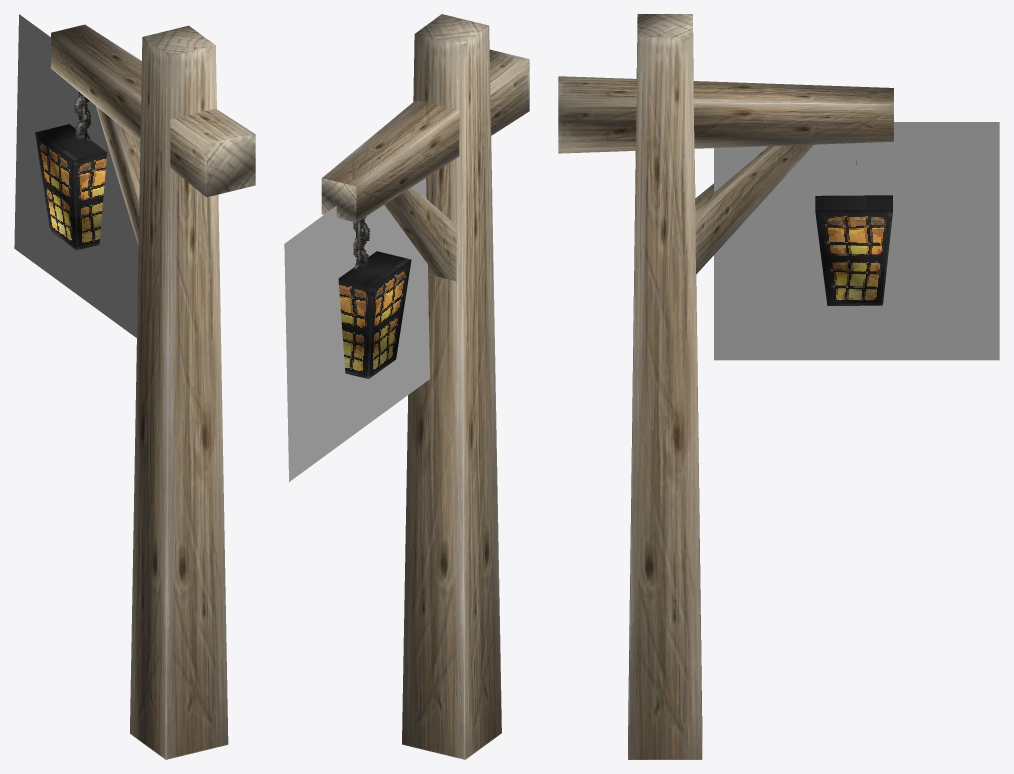
Rendered from duskwoodlamppost.obj.
The picture shows the model from 3 angles, left to right: view 1: azimuth 30°, elevation 25°; view 2: azimuth 150°, elevation 25°; view 3: azimuth 270°, elevation 25°; orthographic projection. The views are drawn at different scales.
Parts seen in each view (by area): view 1: Geoset0, Geoset3, Geoset2, Geoset1; view 2: Geoset0, Geoset3, Geoset2, Geoset1; view 3: Geoset0, Geoset3, Geoset2.
Boxes of the visible parts, box(x1,y1,x2,y2) form: Geoset0: box(51, 24, 255, 759); Geoset3: box(14, 14, 140, 337); Geoset2: box(35, 124, 107, 250); Geoset1: box(74, 92, 90, 142); Geoset0: box(321, 14, 529, 759); Geoset3: box(284, 178, 429, 481); Geoset2: box(338, 251, 411, 378); Geoset1: box(353, 214, 369, 270); Geoset0: box(558, 14, 893, 759); Geoset3: box(714, 122, 999, 360); Geoset2: box(815, 195, 892, 305).
Size of the model in its own units: 0.402 by 4.1 by 2.28.
